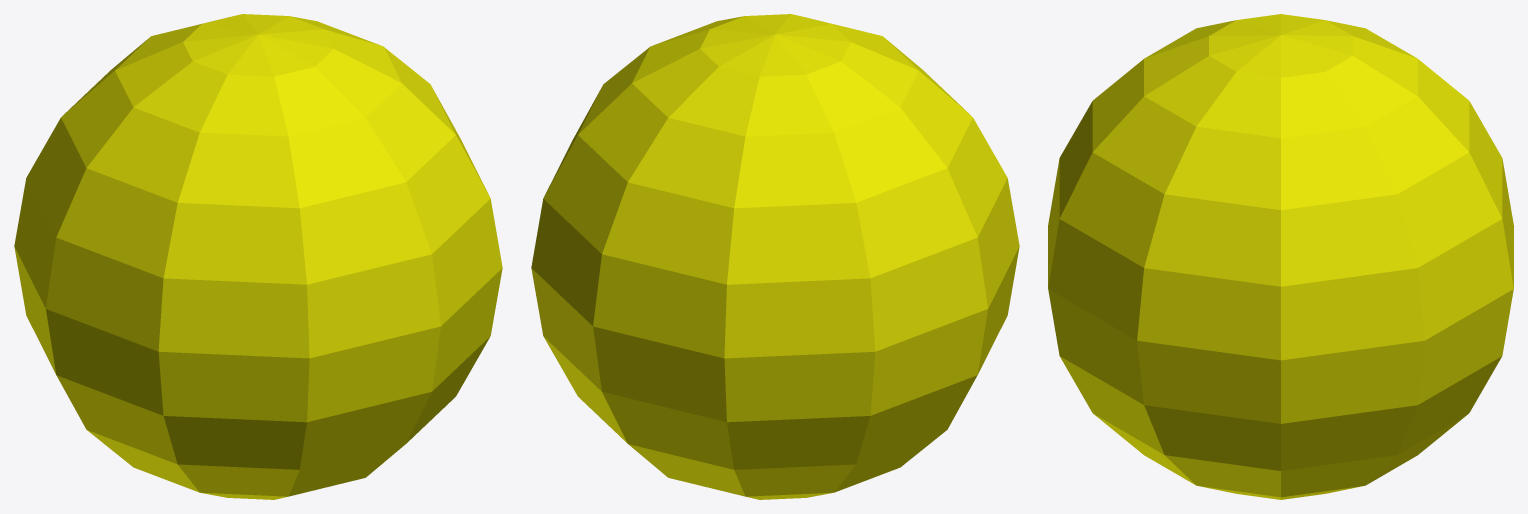
File: enemy.fbx
3 views of the same model, side by side, from view 1: azimuth 30°, elevation 25°; view 2: azimuth 150°, elevation 25°; view 3: azimuth 270°, elevation 25° (orthographic).
Visible parts, largest first — view 1: pSphere1; view 2: pSphere1; view 3: pSphere1.
Boxes of the visible parts, x1,y1,x2,y2 form: pSphere1: (14,14,502,499); pSphere1: (531,14,1019,499); pSphere1: (1048,14,1513,499).
Bounding box in the file's own units: 2 × 2 × 1.9.
